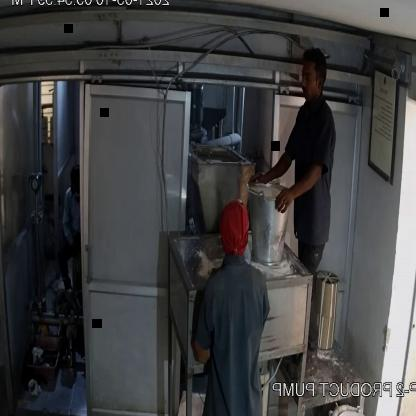no_glove: (273, 158, 324, 224), (249, 133, 298, 193)
